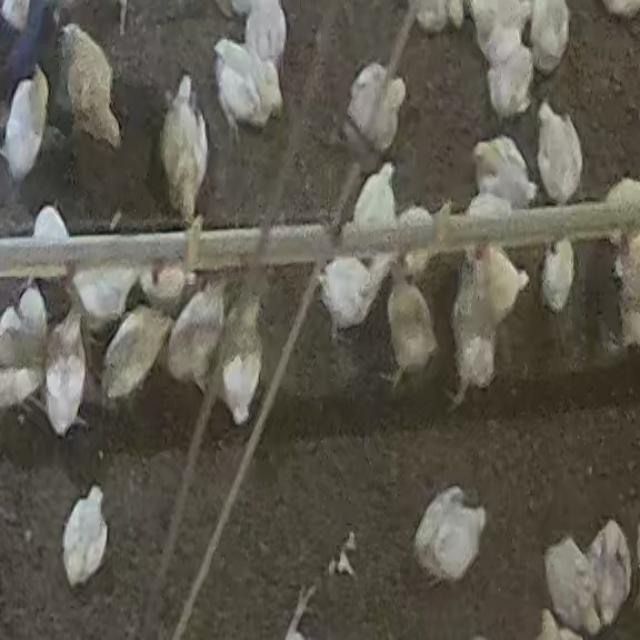chicken: (57, 23, 126, 152), (414, 485, 488, 587), (103, 304, 175, 406), (215, 286, 264, 428), (167, 282, 226, 396), (385, 269, 438, 393), (169, 74, 214, 218), (43, 306, 89, 438), (543, 534, 601, 634), (347, 62, 407, 158), (316, 253, 382, 339), (210, 41, 280, 122), (1, 68, 48, 188), (455, 263, 497, 397), (0, 286, 49, 392), (62, 484, 110, 590), (70, 265, 141, 336), (536, 101, 584, 206), (471, 134, 537, 210), (587, 519, 632, 630), (476, 236, 530, 325), (484, 43, 534, 126), (231, 0, 287, 73), (28, 205, 72, 296), (467, 1, 530, 63), (352, 163, 400, 236), (526, 0, 570, 76), (540, 236, 575, 314), (138, 263, 187, 315)
